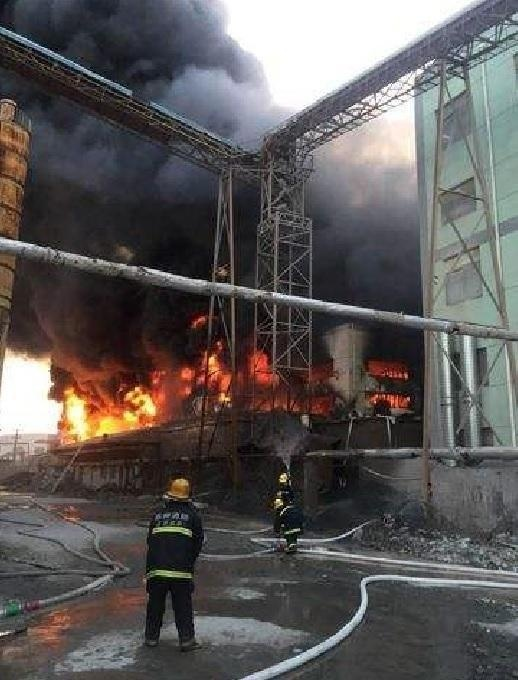fire: (53, 334, 316, 437), (366, 359, 414, 405), (368, 385, 412, 409), (369, 357, 411, 380)
